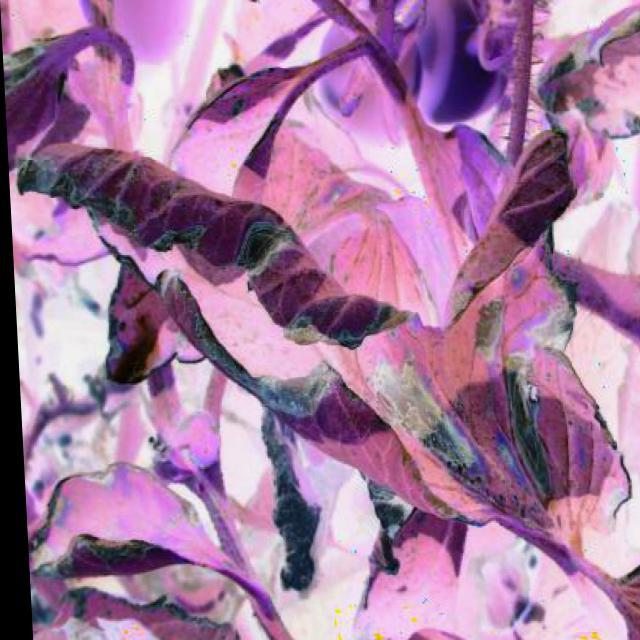Tomato late blight leaf: (12, 104, 633, 612)
